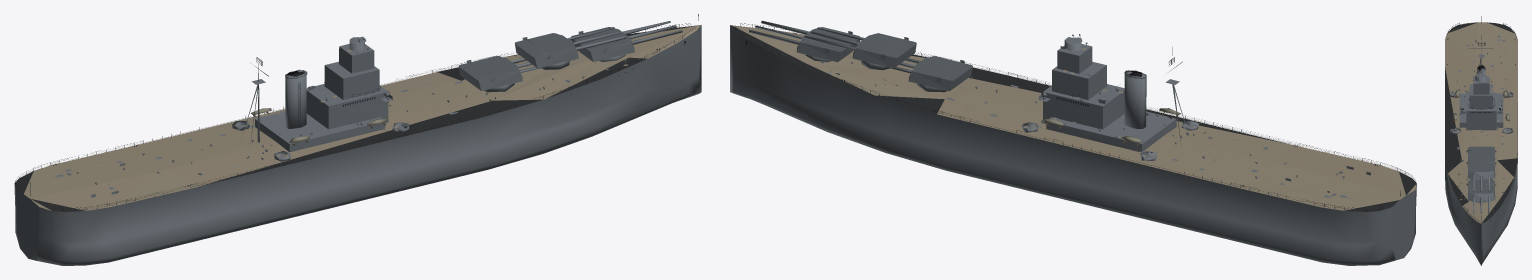
Rendered from nelson_lod.glb.
3 views of the same model, side by side, from view 1: azimuth 30°, elevation 25°; view 2: azimuth 150°, elevation 25°; view 3: azimuth 270°, elevation 25° (orthographic). The views are drawn at different scales.
Parts seen in each view (by area): view 1: nelson_lod; view 2: nelson_lod; view 3: nelson_lod.
Boxes of the visible parts, left/top/right/bottom form: nelson_lod: left=14, top=14, right=701, bottom=265; nelson_lod: left=730, top=20, right=1416, bottom=265; nelson_lod: left=1445, top=16, right=1517, bottom=265.
Bounding box in the file's own units: 217 × 47.97 × 32.3.
